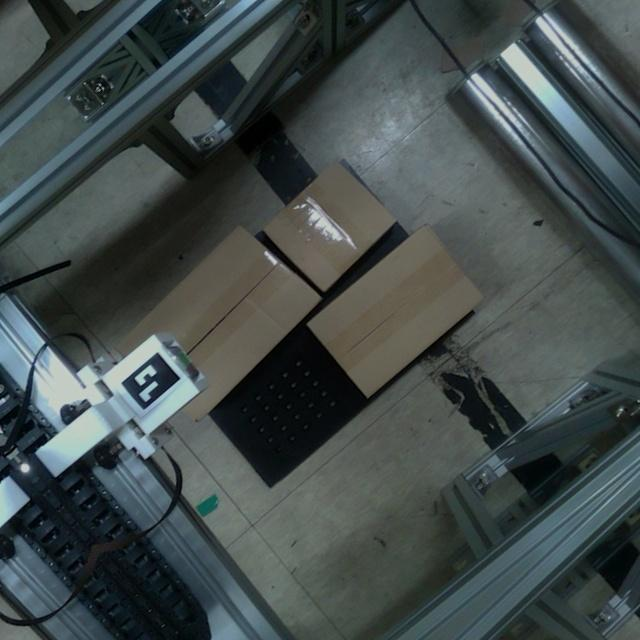box: (302, 216, 487, 400), (260, 152, 400, 296)
